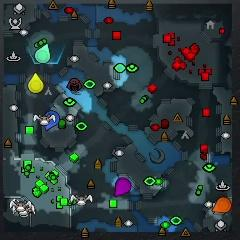p1: (44, 110, 59, 130)
p2: (35, 43, 50, 63)
p3: (115, 178, 131, 196)
p4: (28, 72, 43, 93)
p5: (213, 197, 231, 212)
